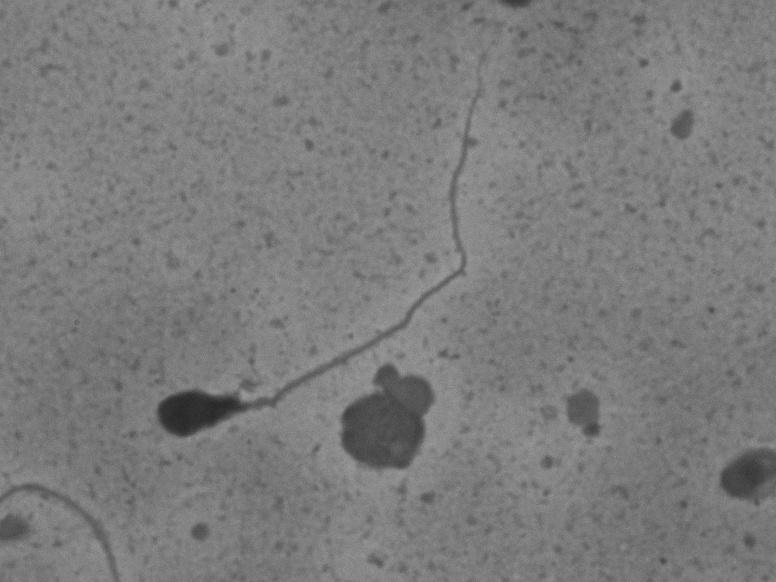Abnormal: (125, 41, 504, 451)
